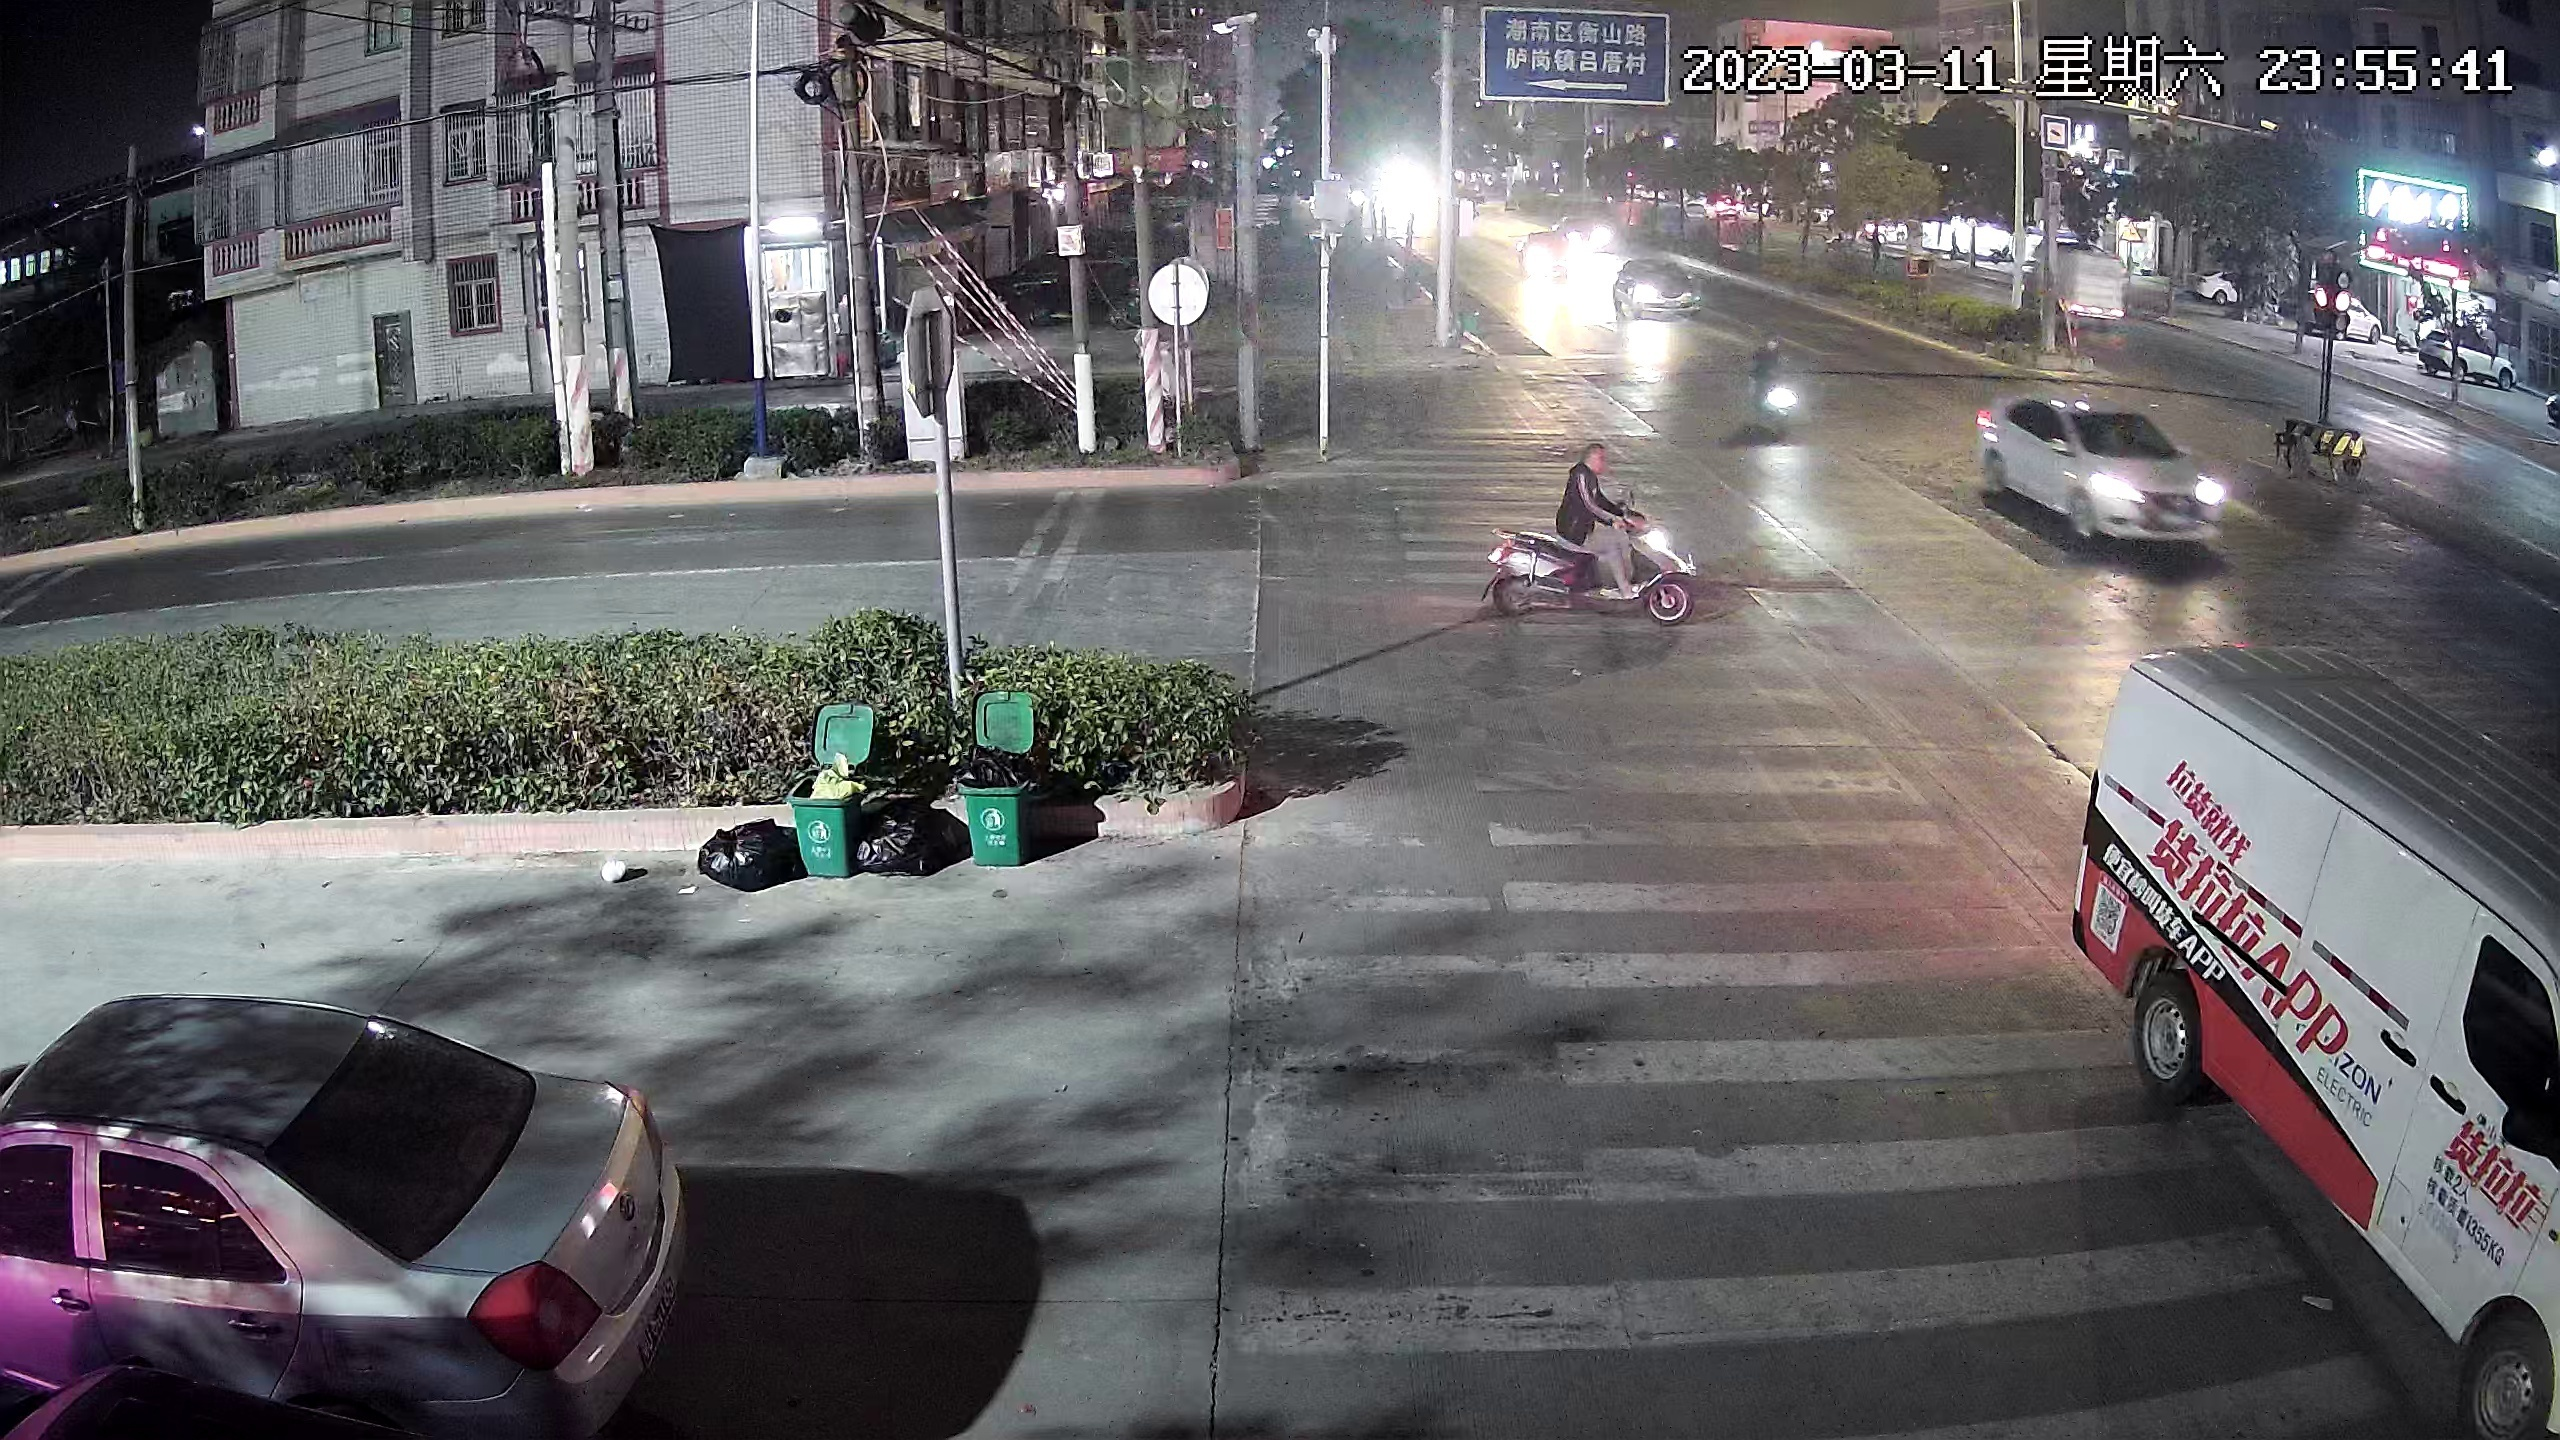motorcycle: (1495, 433, 1695, 639), (1739, 334, 1802, 445)
person: (1557, 433, 1643, 608)
sedan: (1, 994, 685, 1422), (1979, 374, 2220, 558), (1004, 244, 1142, 327), (2433, 322, 2517, 398), (1615, 258, 1700, 327), (2309, 289, 2384, 349), (1524, 229, 1583, 279), (2202, 265, 2248, 317)
truck: (2093, 643, 2560, 1408)
